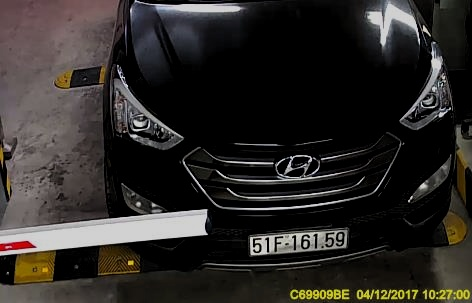plate: (241, 227, 351, 261)
